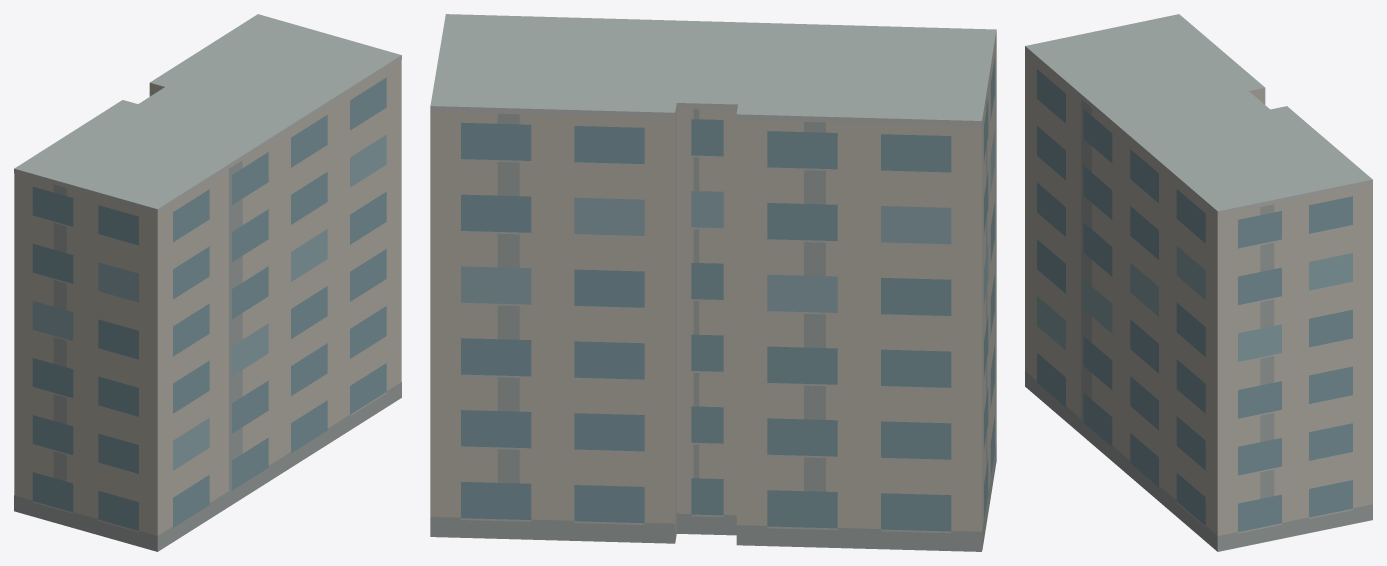
The model's file is survey-upis-32809336.glb.
3 renders of one model, left to right at view 1: azimuth 30°, elevation 25°; view 2: azimuth 150°, elevation 25°; view 3: azimuth 270°, elevation 25°, orthographic. The views are drawn at different scales.
Visible parts, largest first — view 1: survey-upis-32809336.tmp; view 2: survey-upis-32809336.tmp; view 3: survey-upis-32809336.tmp.
Boxes of the visible parts, bbox=[...] form: survey-upis-32809336.tmp: bbox=[14, 14, 401, 551]; survey-upis-32809336.tmp: bbox=[430, 14, 996, 551]; survey-upis-32809336.tmp: bbox=[1025, 14, 1372, 551].
Size of the model in its own units: 22.76 by 18.3 by 16.95.
